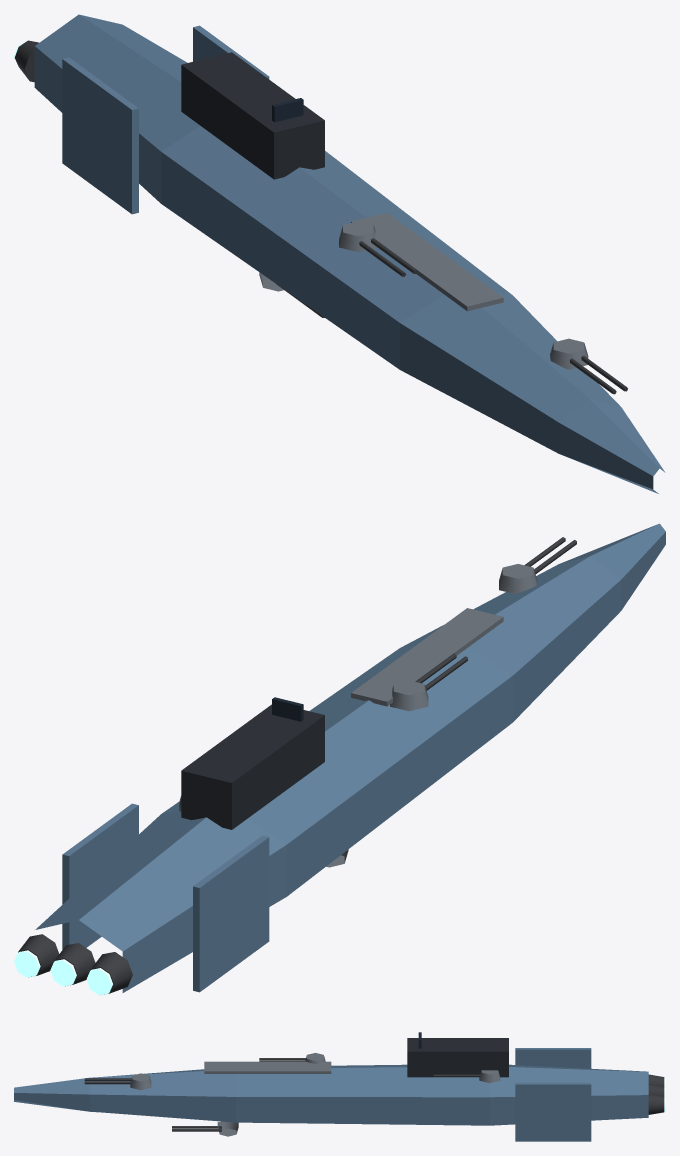
File: space_ship_frigate_mk5.glb
3 renders of one model, top to bottom at view 1: azimuth 30°, elevation 25°; view 2: azimuth 150°, elevation 25°; view 3: azimuth 270°, elevation 25°, orthographic. The views are drawn at different scales.
Parts seen in each view (by area): view 1: body, turret_2, turret_0; view 2: body, turret_2, turret_0, engine_0, engine_1, engine_2; view 3: body, turret_0, turret_1, turret_4, turret_2, engine_2, engine_0.
Part boxes in pixels (x1,y1,x2,y2): body: (34, 14, 665, 493); turret_2: (339, 221, 416, 276); turret_0: (550, 338, 627, 394); body: (35, 523, 665, 992); turret_2: (390, 653, 467, 711); turret_0: (499, 537, 576, 593); engine_0: (86, 952, 132, 995); engine_1: (50, 943, 95, 986); engine_2: (14, 934, 58, 977); body: (14, 1032, 648, 1141); turret_0: (84, 1073, 151, 1090); turret_1: (172, 1121, 238, 1136); turret_4: (433, 1070, 500, 1083); turret_2: (259, 1053, 325, 1063); engine_2: (648, 1094, 665, 1114); engine_0: (648, 1074, 665, 1087).
Size of what is drawn, in the model's own units: 6.06 by 6.91 by 45.62.
